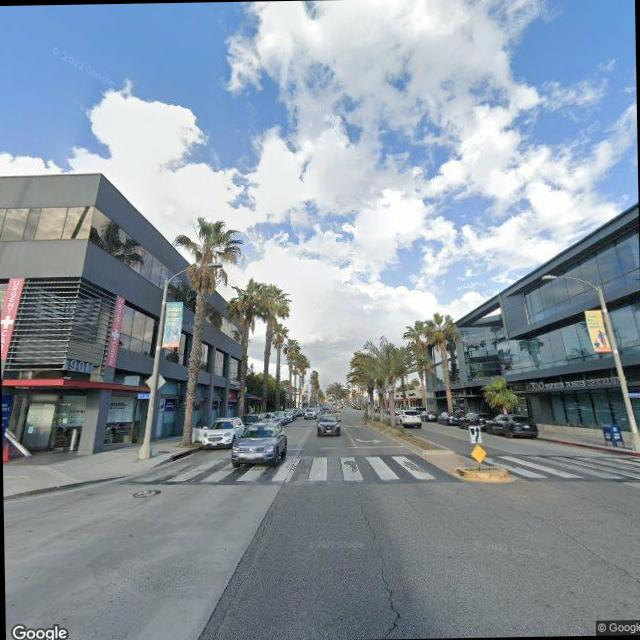crack: (354, 502, 402, 638)
